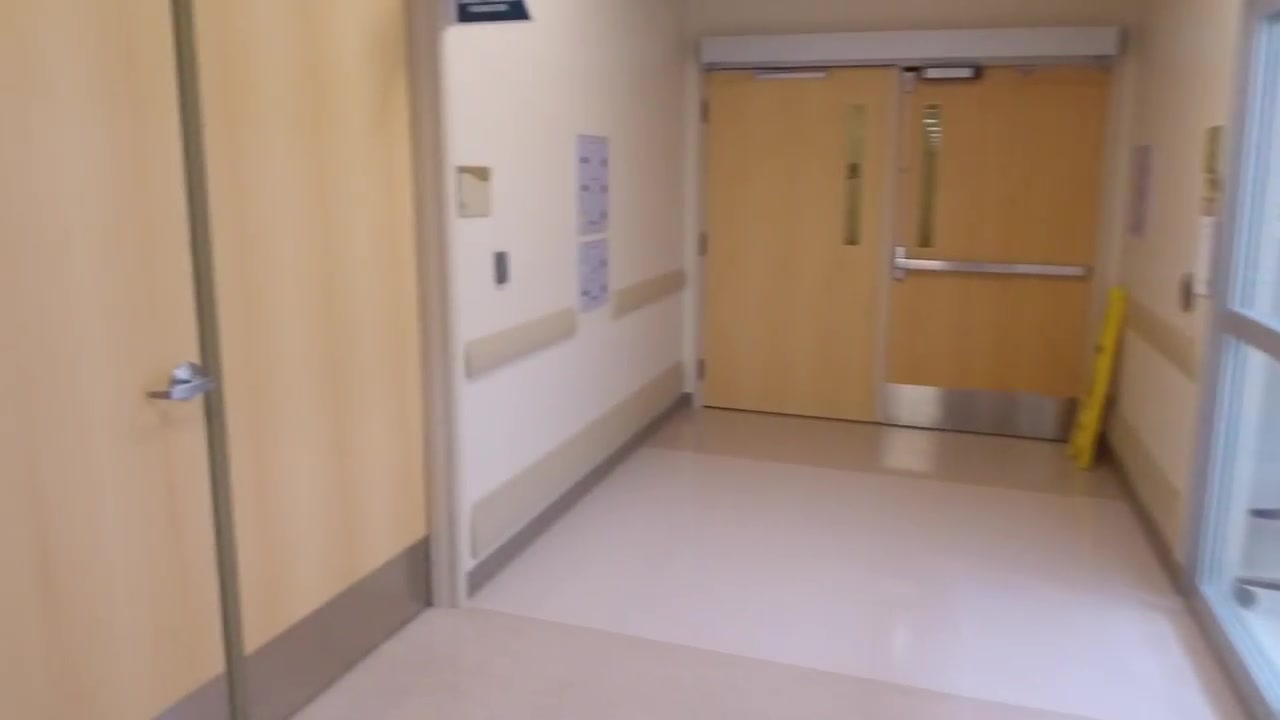door_handle: (146, 372, 215, 404)
push_latch: (889, 243, 1087, 278)
